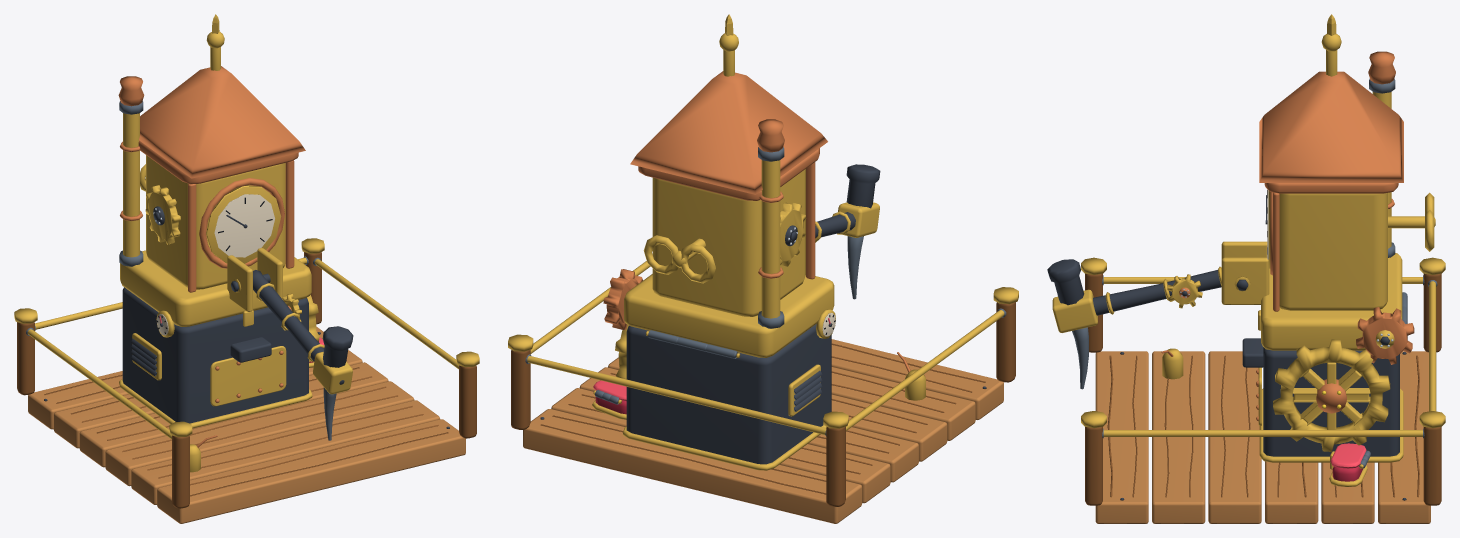
Rendered from IcePickPost_T2.fbx.
3 renders of one model, left to right at view 1: azimuth 30°, elevation 25°; view 2: azimuth 150°, elevation 25°; view 3: azimuth 270°, elevation 25°, orthographic. The views are drawn at different scales.
Visible parts, largest first — view 1: IcePickPostT2Deck, IcePickPostT2Tower, IcePickPostT2Housing, IcePickPostT2Rail, IcePickPostT2Arm, IcePickPostT2Pipe, IcePickPostT2Mount, IcePickPostT2Gears; view 2: IcePickPostT2Deck, IcePickPostT2Housing, IcePickPostT2Tower, IcePickPostT2Rail, IcePickPostT2Pipe, IcePickPostT2Arm, IcePickPostT2Gears, IcePickPostT2Key, IcePickPostT2Clutter; view 3: IcePickPostT2Deck, IcePickPostT2Tower, IcePickPostT2Housing, IcePickPostT2Rail, IcePickPostT2Gears, IcePickPostT2Arm, IcePickPostT2Mount, IcePickPostT2Clutter, IcePickPostT2Pipe, IcePickPostT2Key.
Part boxes in pixels (x1=…): IcePickPostT2Deck: x1=28, y1=326, x2=465, y2=523; IcePickPostT2Tower: x1=138, y1=14, x2=305, y2=292; IcePickPostT2Housing: x1=119, y1=250, x2=312, y2=428; IcePickPostT2Rail: x1=14, y1=238, x2=479, y2=508; IcePickPostT2Arm: x1=253, y1=270, x2=353, y2=440; IcePickPostT2Pipe: x1=118, y1=76, x2=144, y2=266; IcePickPostT2Mount: x1=227, y1=248, x2=282, y2=362; IcePickPostT2Gears: x1=145, y1=185, x2=319, y2=341; IcePickPostT2Deck: x1=523, y1=339, x2=1003, y2=523; IcePickPostT2Housing: x1=623, y1=274, x2=835, y2=470; IcePickPostT2Tower: x1=630, y1=14, x2=827, y2=316; IcePickPostT2Rail: x1=508, y1=261, x2=1018, y2=506; IcePickPostT2Pipe: x1=757, y1=119, x2=784, y2=328; IcePickPostT2Arm: x1=815, y1=164, x2=880, y2=299; IcePickPostT2Gears: x1=603, y1=202, x2=806, y2=379; IcePickPostT2Key: x1=643, y1=235, x2=715, y2=283; IcePickPostT2Clutter: x1=592, y1=352, x2=925, y2=419; IcePickPostT2Deck: x1=1095, y1=351, x2=1430, y2=523; IcePickPostT2Tower: x1=1259, y1=14, x2=1403, y2=311; IcePickPostT2Housing: x1=1256, y1=253, x2=1407, y2=462; IcePickPostT2Rail: x1=1081, y1=257, x2=1445, y2=505; IcePickPostT2Gears: x1=1273, y1=307, x2=1414, y2=451; IcePickPostT2Arm: x1=1047, y1=259, x2=1221, y2=389; IcePickPostT2Mount: x1=1221, y1=241, x2=1269, y2=367; IcePickPostT2Clutter: x1=1161, y1=348, x2=1370, y2=486; IcePickPostT2Pipe: x1=1368, y1=51, x2=1395, y2=257; IcePickPostT2Key: x1=1388, y1=192, x2=1435, y2=251.
Size of the model in its own units: 182 by 225 by 187.
